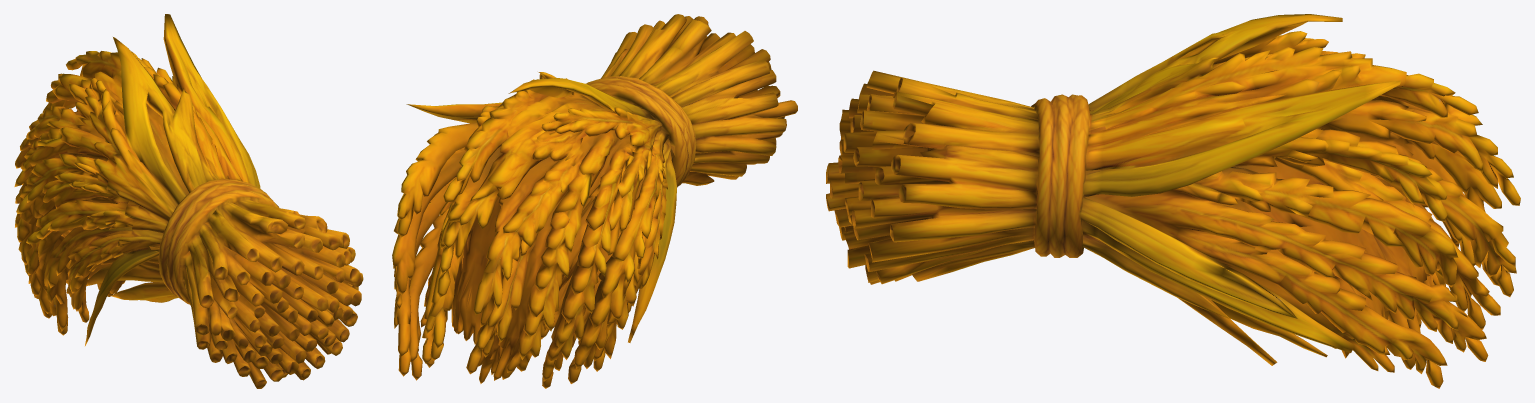
Rendered from rice_sheaf.glb.
3 views of the same model, side by side, from view 1: azimuth 30°, elevation 25°; view 2: azimuth 150°, elevation 25°; view 3: azimuth 270°, elevation 25° (orthographic). The views are drawn at different scales.
Parts seen in each view (by area): view 1: tripo_node_7f805af7-2a27-4166-9d01-62c16a617e63; view 2: tripo_node_7f805af7-2a27-4166-9d01-62c16a617e63; view 3: tripo_node_7f805af7-2a27-4166-9d01-62c16a617e63.
Boxes of the visible parts, x1,y1,x2,y2 form: tripo_node_7f805af7-2a27-4166-9d01-62c16a617e63: [14, 14, 363, 388]; tripo_node_7f805af7-2a27-4166-9d01-62c16a617e63: [392, 14, 797, 388]; tripo_node_7f805af7-2a27-4166-9d01-62c16a617e63: [826, 14, 1520, 388].
Bounding box in the file's own units: 0.4386 × 0.5305 × 0.9788.
Materials: 1 (1 with a texture image).
